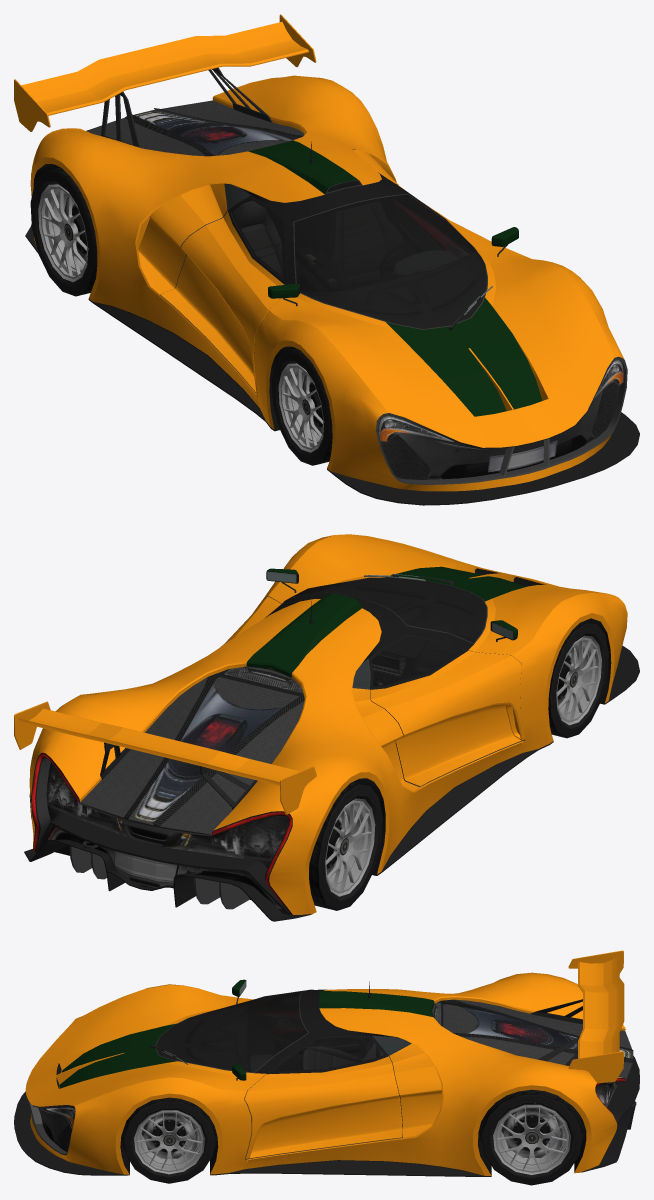
The model's file is Car_1.FBX.
3 views of the same model, one above another, from view 1: azimuth 30°, elevation 25°; view 2: azimuth 150°, elevation 25°; view 3: azimuth 270°, elevation 25° (orthographic). The views are drawn at different scales.
Visible parts, largest first — view 1: Body, Door_R, Wheel_BR, Wheel_FR; view 2: Body, Door_R, Wheel_BR, Wheel_FR, Door_L; view 3: Body, Door_L, Wheel_BL, Wheel_FL, Door_R.
Part boxes in pixels (box(x1,y1,x2,y2)): Body: box(14, 14, 639, 505); Door_R: box(160, 196, 286, 395); Wheel_BR: box(30, 167, 97, 296); Wheel_FR: box(271, 348, 332, 465); Body: box(14, 534, 639, 921); Door_R: box(368, 633, 525, 786); Wheel_BR: box(309, 782, 382, 910); Wheel_FR: box(548, 621, 608, 738); Door_L: box(221, 596, 281, 646); Body: box(14, 950, 639, 1176); Door_L: box(244, 1034, 402, 1158); Wheel_BL: box(482, 1089, 582, 1185); Wheel_FL: box(124, 1097, 215, 1183); Door_R: box(247, 998, 359, 1059).
Bounding box in the file's own units: 58.01 × 37.25 × 139.
